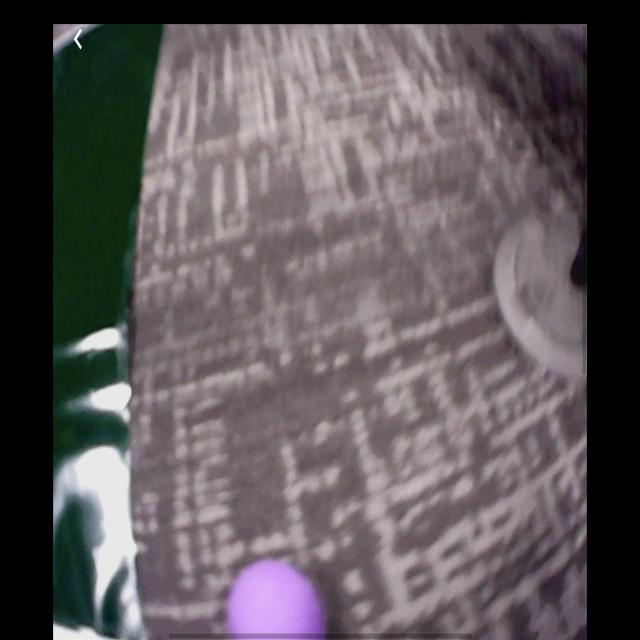ball: (230, 558, 326, 640)
